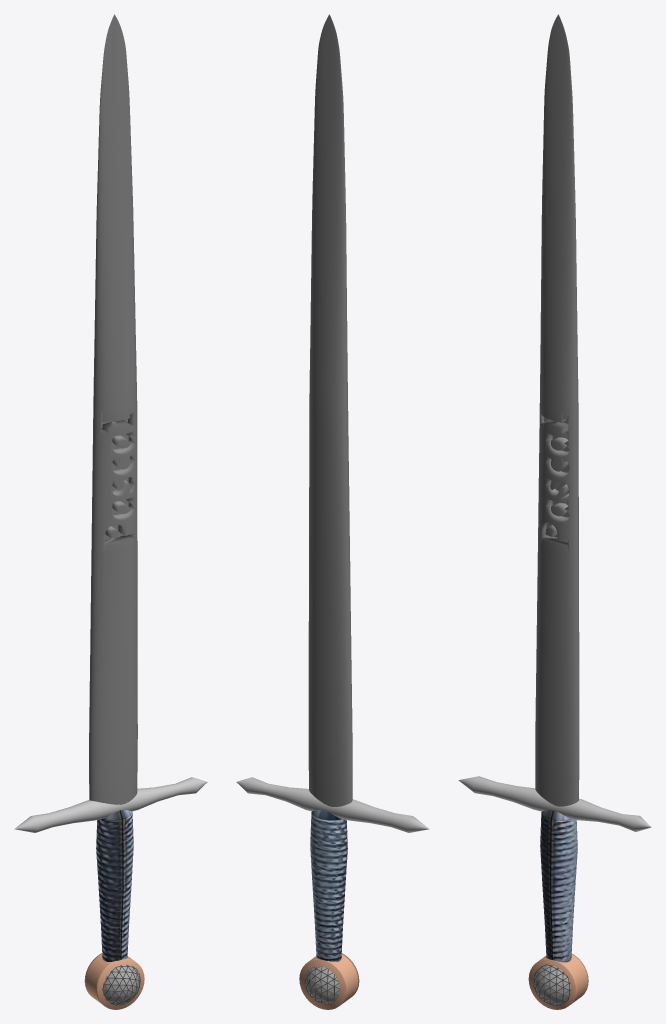
The model's file is pascaliber.glb.
3 views of the same model, side by side, from view 1: azimuth 30°, elevation 25°; view 2: azimuth 150°, elevation 25°; view 3: azimuth 330°, elevation 25° (orthographic).
Visible parts, largest first — view 1: Cylinder.004, Cylinder.002, Cylinder.003, Cylinder, Icosphere.001, Icosphere; view 2: Cylinder.004, Cylinder.002, Cylinder.003, Cylinder, Icosphere.001, Icosphere; view 3: Cylinder.004, Cylinder.002, Cylinder.003, Cylinder, Icosphere.001, Icosphere.
Boxes of the visible parts, x1=… form: Cylinder.004: x1=89, y1=14, x2=137, y2=804; Cylinder.002: x1=96, y1=810, x2=133, y2=961; Cylinder.003: x1=14, y1=777, x2=207, y2=832; Cylinder: x1=84, y1=953, x2=144, y2=1009; Icosphere.001: x1=103, y1=965, x2=140, y2=1004; Icosphere: x1=102, y1=964, x2=140, y2=1005; Cylinder.004: x1=308, y1=14, x2=352, y2=806; Cylinder.002: x1=310, y1=810, x2=347, y2=961; Cylinder.003: x1=236, y1=777, x2=429, y2=832; Cylinder: x1=299, y1=953, x2=359, y2=1009; Icosphere.001: x1=305, y1=966, x2=339, y2=1003; Icosphere: x1=304, y1=966, x2=340, y2=1004; Cylinder.004: x1=535, y1=14, x2=579, y2=806; Cylinder.002: x1=540, y1=810, x2=577, y2=962; Cylinder.003: x1=458, y1=776, x2=651, y2=831; Cylinder: x1=528, y1=953, x2=588, y2=1009; Icosphere.001: x1=534, y1=965, x2=570, y2=1004; Icosphere: x1=533, y1=964, x2=571, y2=1005.
Bounding box in the file's own units: 0.7446 × 3.64 × 0.1753.
6 materials, 1 textured.
